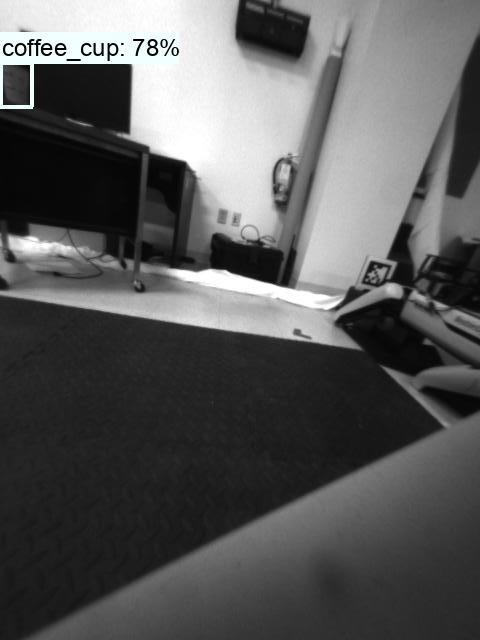coffee_cup: (1, 63, 31, 105)
